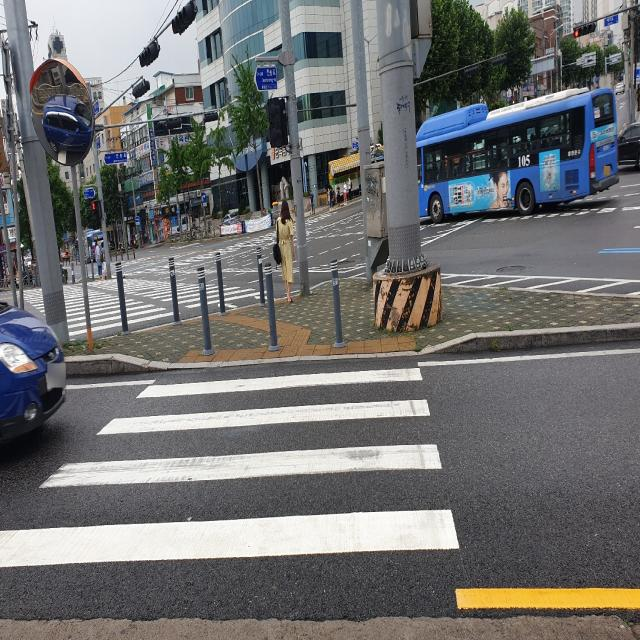빨간불: (88, 196, 98, 232)
횡단보도: (0, 361, 461, 572), (18, 264, 253, 339)
